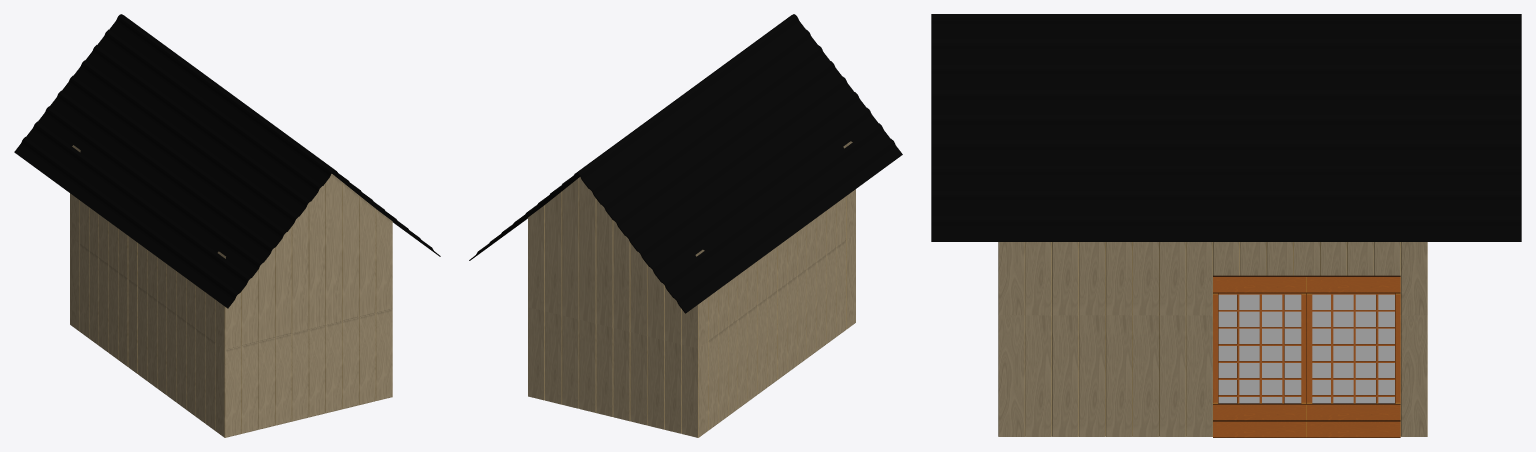
File: Dummy_JP.fbx
3 renders of one model, left to right at view 1: azimuth 30°, elevation 25°; view 2: azimuth 150°, elevation 25°; view 3: azimuth 270°, elevation 25°, orthographic. The views are drawn at different scales.
Parts seen in each view (by area): view 1: Roof1_M.057, Wood2_M.151, Wood2_M.153, Wood2_M.152; view 2: Roof1_M.057, Wood2_M.152, Wood2_M.153, Wood2_M.151; view 3: Roof1_M.057, Wood2_M.154, Wood1Dark_M.322, Wood1Dark_M.323, Wood2_M.151, Wood2_M.152.
Part boxes in pixels (bbox=[...]): Roof1_M.057: bbox=[14, 14, 440, 308]; Wood2_M.151: bbox=[215, 174, 392, 437]; Wood2_M.153: bbox=[79, 200, 215, 430]; Wood2_M.152: bbox=[70, 145, 80, 331]; Roof1_M.057: bbox=[469, 14, 902, 313]; Wood2_M.152: bbox=[528, 177, 707, 437]; Wood2_M.153: bbox=[708, 196, 845, 430]; Wood2_M.151: bbox=[843, 141, 855, 329]; Roof1_M.057: bbox=[931, 14, 1521, 241]; Wood2_M.154: bbox=[1025, 242, 1400, 436]; Wood1Dark_M.322: bbox=[1306, 275, 1400, 437]; Wood1Dark_M.323: bbox=[1213, 275, 1306, 437]; Wood2_M.151: bbox=[998, 242, 1025, 436]; Wood2_M.152: bbox=[1401, 242, 1427, 436].
Size of the model in its own units: 2542 by 3017 by 4400.
Materials: 4 (3 with a texture image).
